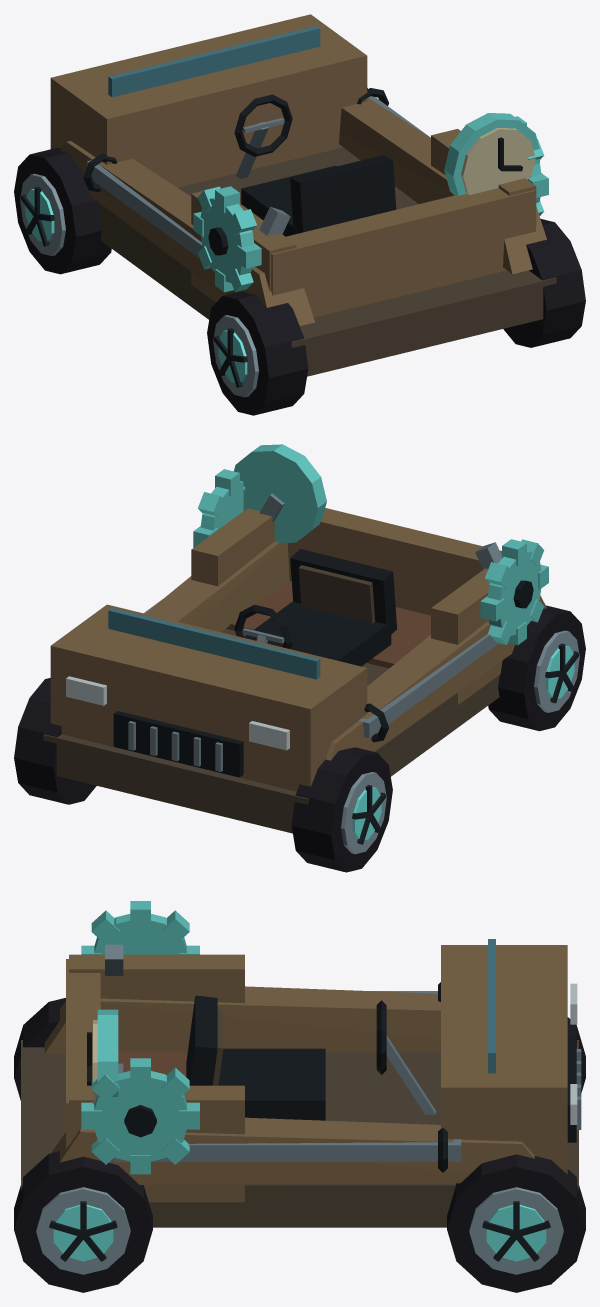
File: kart.glb
3 renders of one model, top to bottom at view 1: azimuth 30°, elevation 25°; view 2: azimuth 150°, elevation 25°; view 3: azimuth 270°, elevation 25°, orthographic. The views are drawn at different scales.
Parts seen in each view (by area): view 1: identity-truck-truck-utility-body, identity-truck-driver-cockpit, wheel-rear-left, wheel-front-left, identity-truck-motif-gears, identity-truck-motif-clock, wheel-rear-right, identity-truck-motif-pipes; view 2: identity-truck-truck-utility-body, identity-truck-driver-cockpit, wheel-front-left, wheel-rear-left, identity-truck-motif-gears, identity-truck-motif-clock, wheel-front-right, identity-truck-motif-pipes; view 3: identity-truck-truck-utility-body, wheel-front-right, wheel-rear-right, identity-truck-motif-gears, identity-truck-driver-cockpit, identity-truck-motif-pipes, identity-truck-motif-clock, wheel-rear-left.
Part boxes in pixels (x1,y1,x2,y2): identity-truck-truck-utility-body: [50, 14, 556, 376]; identity-truck-driver-cockpit: [234, 94, 396, 236]; wheel-rear-left: [207, 291, 308, 415]; wheel-front-left: [14, 147, 111, 274]; identity-truck-motif-gears: [193, 116, 548, 292]; identity-truck-motif-clock: [444, 113, 540, 195]; wheel-rear-right: [503, 218, 585, 347]; identity-truck-motif-pipes: [83, 88, 430, 258]; identity-truck-truck-utility-body: [43, 508, 546, 833]; identity-truck-driver-cockpit: [234, 549, 397, 666]; wheel-front-left: [291, 747, 392, 872]; wheel-rear-left: [488, 605, 585, 731]; identity-truck-motif-gears: [193, 469, 548, 645]; identity-truck-motif-clock: [234, 444, 326, 543]; wheel-front-right: [14, 678, 96, 804]; identity-truck-motif-pipes: [144, 493, 501, 742]; identity-truck-truck-utility-body: [21, 939, 581, 1227]; wheel-front-right: [447, 1154, 585, 1292]; wheel-rear-right: [14, 1151, 152, 1292]; identity-truck-motif-gears: [81, 901, 199, 1174]; identity-truck-driver-cockpit: [186, 995, 435, 1120]; identity-truck-motif-pipes: [105, 944, 461, 1172]; identity-truck-motif-clock: [87, 1009, 118, 1104]; wheel-rear-left: [14, 998, 65, 1100].
Bounding box in the file's own units: 2.13 × 1.35 × 2.8.
